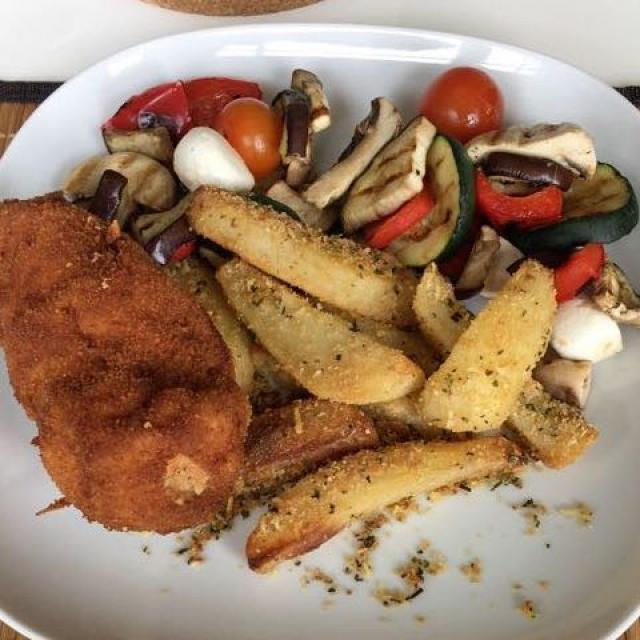bell-pepper: (88, 69, 606, 286)
eggplant: (53, 83, 627, 253)
fries: (163, 182, 603, 584)
pork-schnitzel-fried: (0, 194, 256, 560)
tomato: (211, 74, 504, 178)
zucchini: (402, 134, 627, 269)
